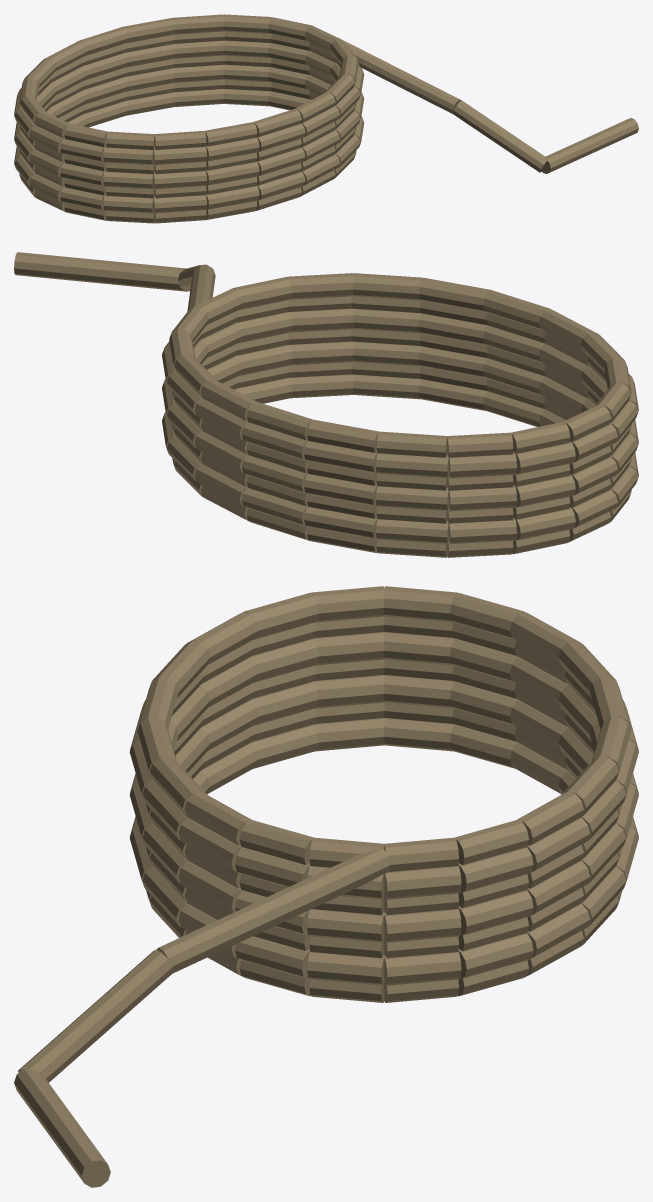
Rendered from F-06_rescue_line.glb.
3 renders of one model, top to bottom at view 1: azimuth 30°, elevation 25°; view 2: azimuth 150°, elevation 25°; view 3: azimuth 270°, elevation 25°, orthographic. The views are drawn at different scales.
Visible parts, largest first — view 1: F-06_rescue_line; view 2: F-06_rescue_line; view 3: F-06_rescue_line.
Boxes of the visible parts, <box> form: F-06_rescue_line: <box>14,14,638,223</box>; F-06_rescue_line: <box>14,252,638,557</box>; F-06_rescue_line: <box>14,586,638,1187</box>.
Bounding box in the file's own units: 0.6375 × 0.1011 × 0.3689.
